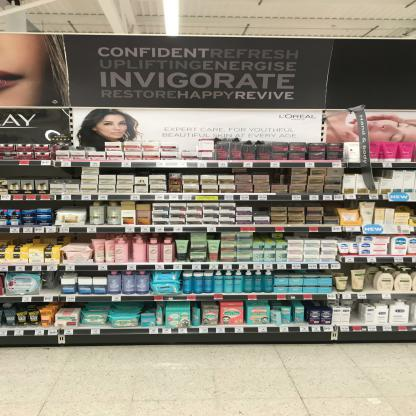Void: (3, 166, 74, 179), (46, 273, 58, 295), (349, 303, 362, 323), (269, 168, 282, 184), (324, 204, 339, 216), (253, 201, 267, 212)
